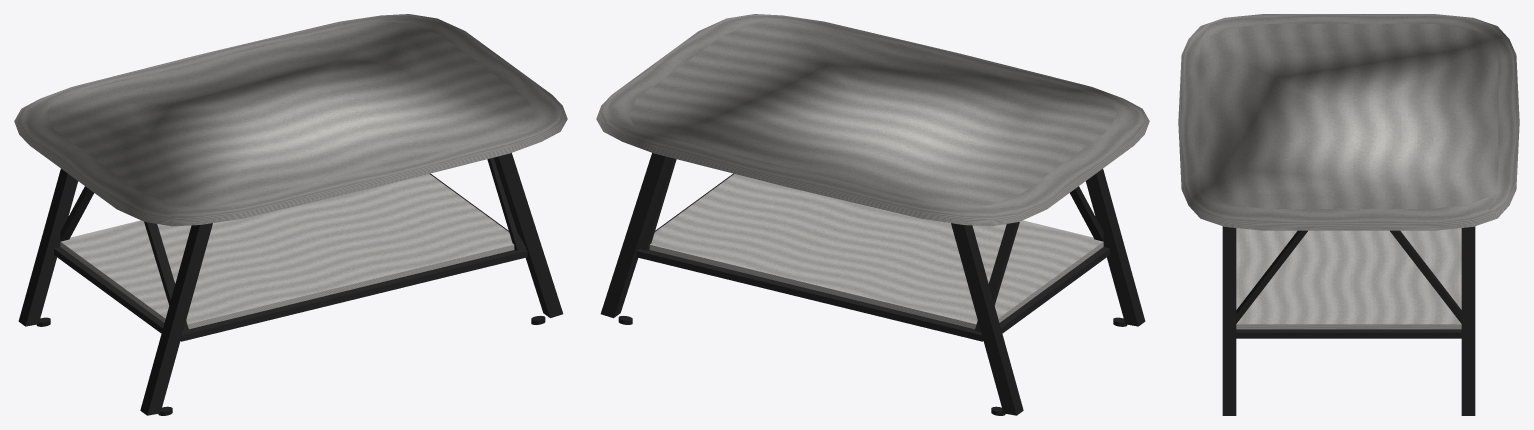
3 renders of one model, left to right at view 1: azimuth 30°, elevation 25°; view 2: azimuth 150°, elevation 25°; view 3: azimuth 270°, elevation 25°, orthographic.
Visible parts, largest first — view 1: 1 tabletop, 2 lower_shelf, 3 leg_front_left, 7 shelf_rail_front, 5 leg_front_right, 4 leg_back_left, 9 shelf_rail_left, 11 brace_left_front, 13 brace_right_front, 12 brace_left_back; view 2: 1 tabletop, 2 lower_shelf, 4 leg_back_left, 8 shelf_rail_back, 6 leg_back_right, 3 leg_front_left, 9 shelf_rail_left, 12 brace_left_back, 14 brace_right_back, 11 brace_left_front; view 3: 1 tabletop, 2 lower_shelf, 5 leg_front_right, 6 leg_back_right, 10 shelf_rail_right, 13 brace_right_front, 14 brace_right_back.
Boxes of the visible parts, <box> form: 1 tabletop: <box>14,14,567,226</box>; 2 lower_shelf: <box>60,174,514,329</box>; 3 leg_front_left: <box>140,223,212,415</box>; 7 shelf_rail_front: <box>180,249,527,341</box>; 5 leg_front_right: <box>493,153,563,318</box>; 4 leg_back_left: <box>18,169,78,326</box>; 9 shelf_rail_left: <box>54,247,164,333</box>; 11 brace_left_front: <box>144,222,189,332</box>; 13 brace_right_front: <box>487,157,526,250</box>; 12 brace_left_back: <box>60,186,93,241</box>; 1 tabletop: <box>596,14,1149,226</box>; 2 lower_shelf: <box>649,174,1103,329</box>; 4 leg_back_left: <box>951,223,1023,415</box>; 8 shelf_rail_back: <box>636,249,983,341</box>; 6 leg_back_right: <box>600,153,670,318</box>; 3 leg_front_left: <box>1085,169,1145,326</box>; 9 shelf_rail_left: <box>999,247,1109,333</box>; 12 brace_left_back: <box>974,222,1019,332</box>; 14 brace_right_back: <box>637,157,676,250</box>; 11 brace_left_front: <box>1070,186,1103,241</box>; 1 tabletop: <box>1178,14,1519,230</box>; 2 lower_shelf: <box>1236,228,1461,329</box>; 5 leg_front_right: <box>1222,226,1236,415</box>; 6 leg_back_right: <box>1461,226,1475,415</box>; 10 shelf_rail_right: <box>1236,329,1461,338</box>; 13 brace_right_front: <box>1236,230,1307,323</box>; 14 brace_right_back: <box>1390,230,1461,323</box>.
Bounding box in the file's own units: 2.21 × 1 × 1.5.
Materials: 3 (1 with a texture image).
